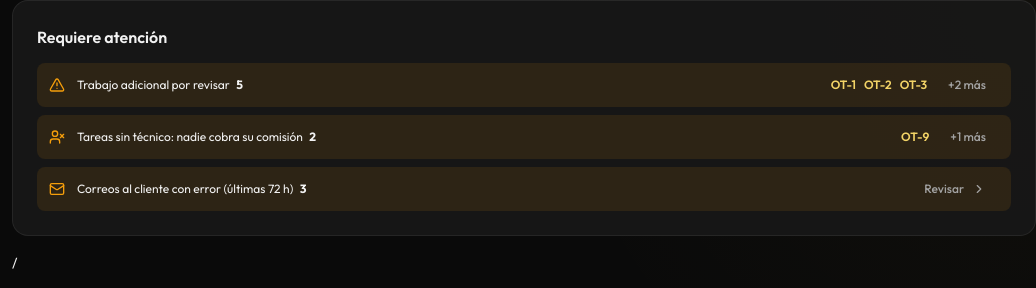
Test: AttentionCard › cada orden abre la pestaña donde se resuelve; los correos, Configuración
What coordinates should you click on to do the following:
click the button "OT-1"
I would click on:
 (843, 85)
Its box is [831,75,856,94].
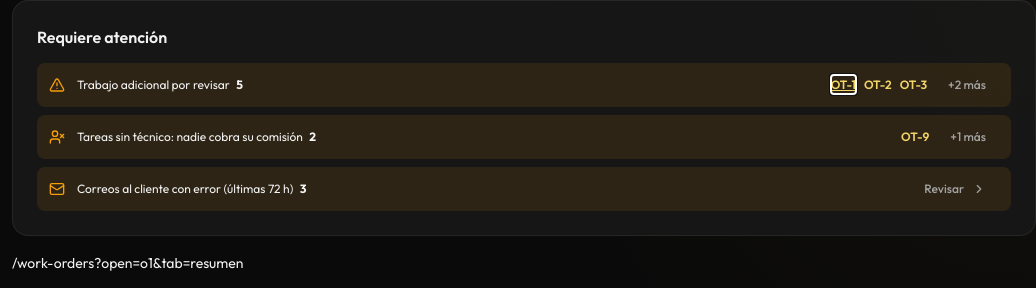
Now the text with test id "where" reads "/work-orders?open=o1&tab=resumen", box [12,254,244,272]
What coordinates should you click on to do the following:
click the button "OT-9"
I would click on:
 (915, 137)
Its box is [901,127,929,146].
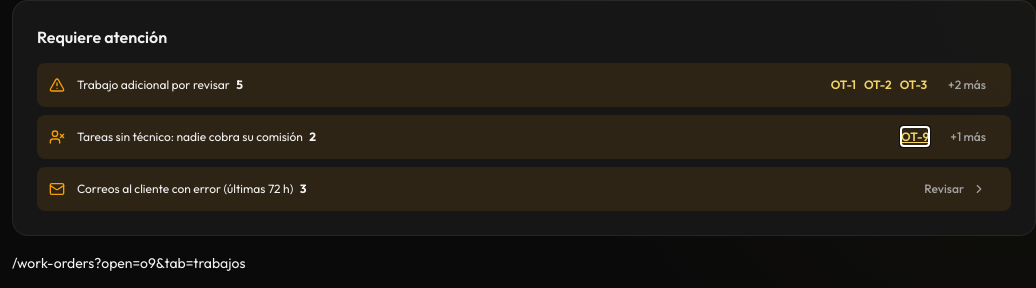
Now the text with test id "where" reads "/work-orders?open=o9&tab=trabajos", box [12,254,245,272]
What coordinates should you click on to do the following:
click the button "Revisar"
I would click on:
 (955, 189)
Its box is [911,175,999,203].
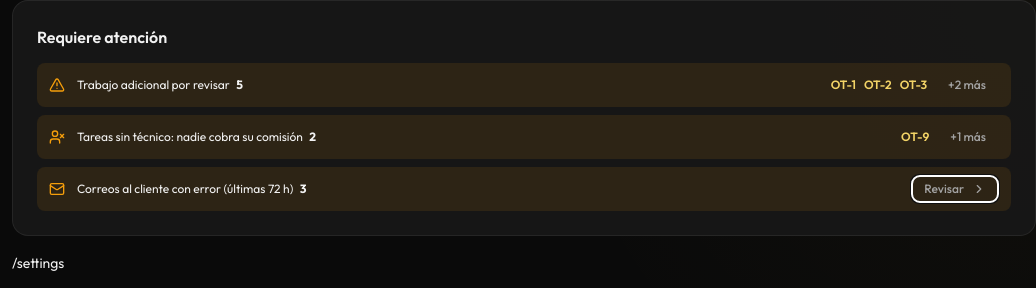
Now the text with test id "where" reads "/settings", box [12,254,64,272]
